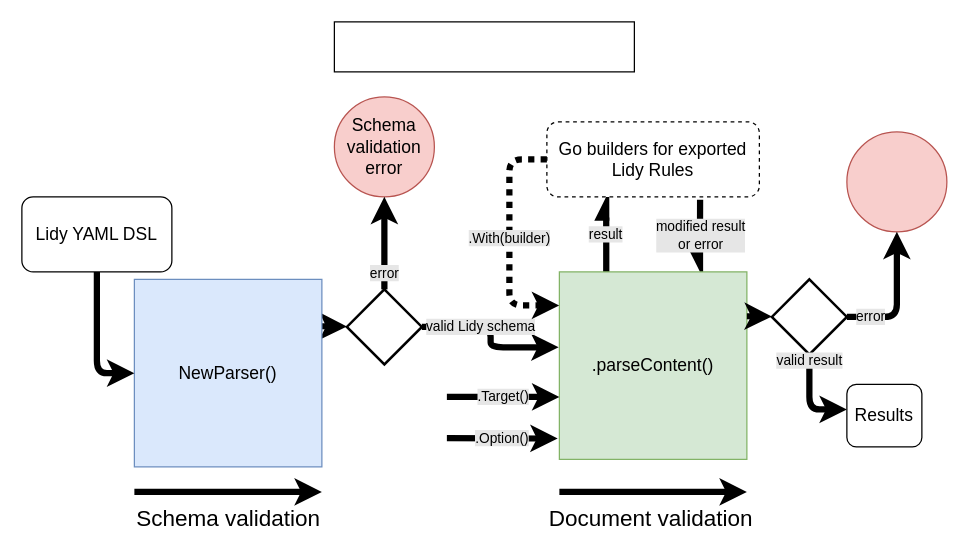
Some shapes in this 969 by 558 pixel diagram are drawn without their labels. Here are the shapes that lost their labels. From the top down, the centre of each, then its label:
At point (483, 46): "NewParser().Parse()".
At point (896, 181): "Document validation error".
At point (383, 326): ".Schema()".
